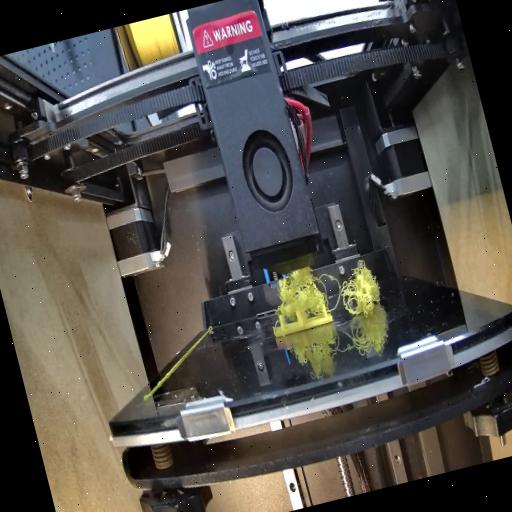spaghetti: (270, 256, 344, 323), (332, 248, 390, 316)
